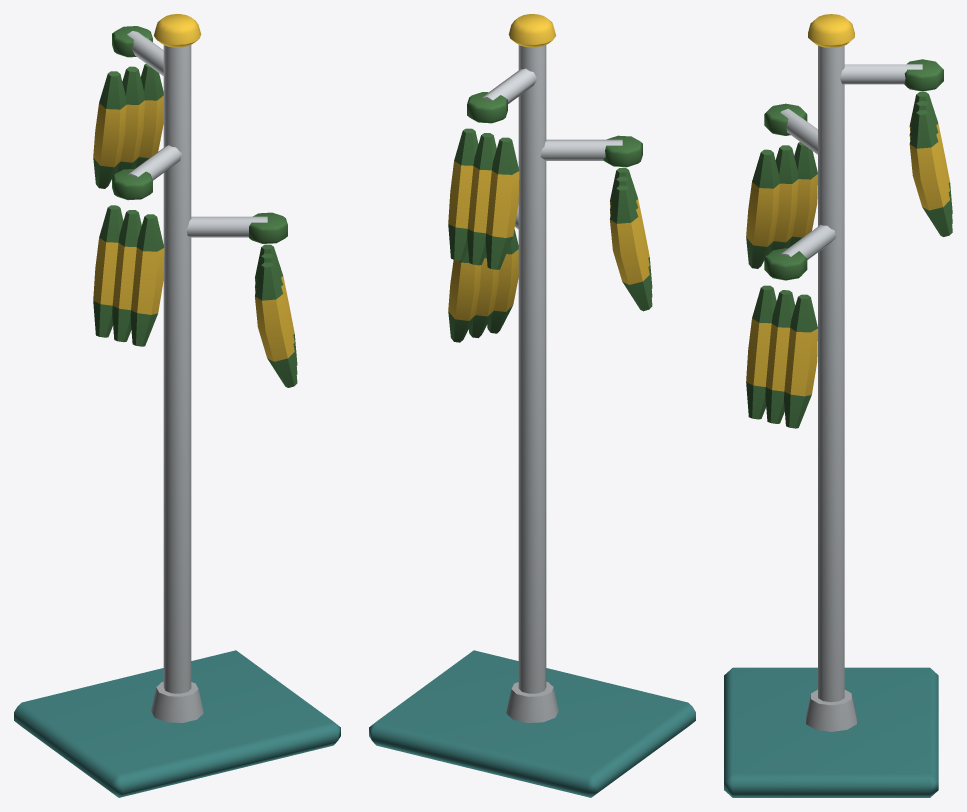
File: BananaStand_01.glb
The picture shows the model from 3 angles, left to right: view 1: azimuth 30°, elevation 25°; view 2: azimuth 150°, elevation 25°; view 3: azimuth 270°, elevation 25°; orthographic projection.
Visible parts, largest first — view 1: SM_BananaStand_01; view 2: SM_BananaStand_01; view 3: SM_BananaStand_01.
Part boxes in pixels (x1,y1,x2,y2): SM_BananaStand_01: [14, 14, 340, 797]; SM_BananaStand_01: [369, 14, 695, 797]; SM_BananaStand_01: [724, 14, 952, 797].
Size of the model in its own units: 0.5 by 1.49 by 0.4264.
Materials: 1 (1 with a texture image).
